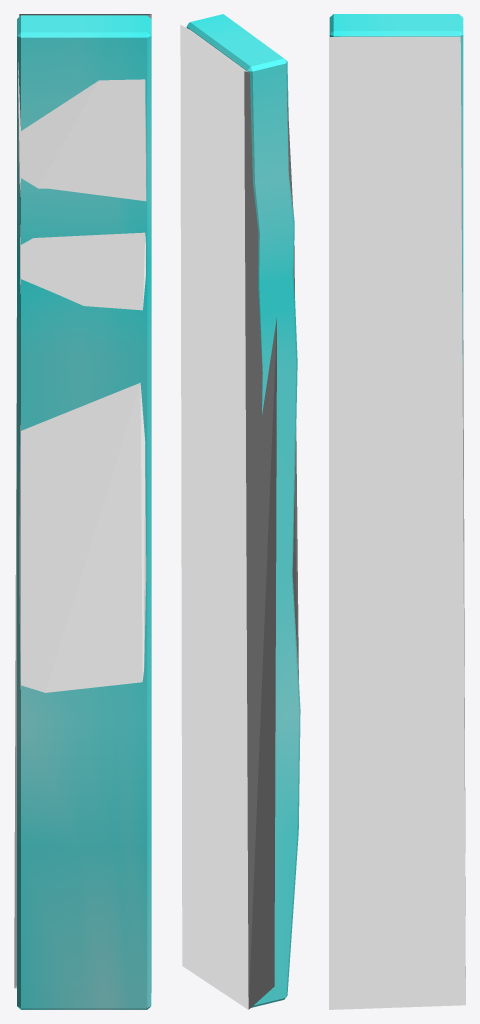
The model's file is SM_WoodenPlanks_05_A.fbx.
3 views of the same model, side by side, from view 1: azimuth 90°, elevation 25°; view 2: azimuth 210°, elevation 25°; view 3: azimuth 270°, elevation 25° (orthographic). The views are drawn at different scales.
Visible parts, largest first — view 1: SM_WoodenPlanks_05_LOD0, SM_WoodenPlanks_05_ConvexHulls; view 2: SM_WoodenPlanks_05_ConvexHulls, SM_WoodenPlanks_05_LOD0; view 3: SM_WoodenPlanks_05_ConvexHulls, SM_WoodenPlanks_05_LOD0.
Boxes of the visible parts, box(x1,y1,x2,y2) form: SM_WoodenPlanks_05_LOD0: box(17, 15, 151, 1009); SM_WoodenPlanks_05_ConvexHulls: box(14, 14, 151, 992); SM_WoodenPlanks_05_ConvexHulls: box(180, 25, 298, 1009); SM_WoodenPlanks_05_LOD0: box(186, 14, 300, 1007); SM_WoodenPlanks_05_ConvexHulls: box(329, 36, 465, 1009); SM_WoodenPlanks_05_LOD0: box(329, 14, 463, 364).
Bounding box in the file's own units: 14.85 × 29.78 × 234.
